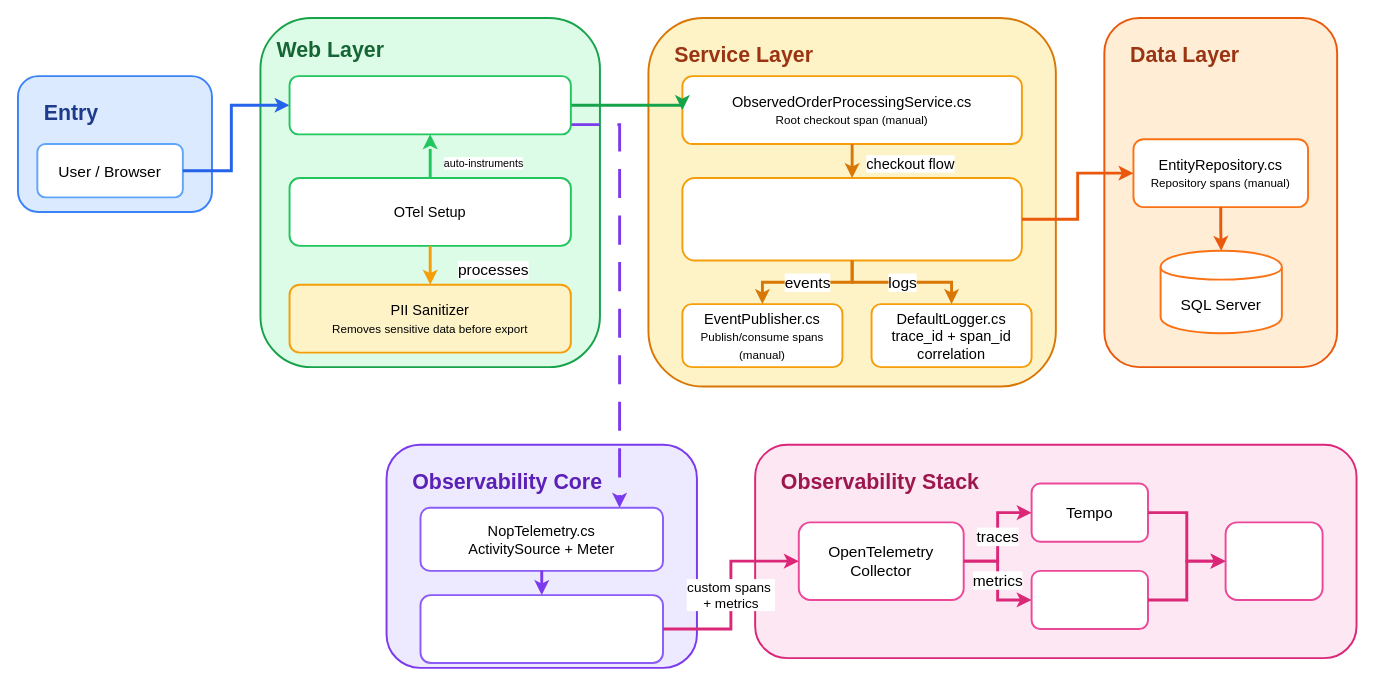
The diagram is 1374 pixels wide and 685 high, and some of its shapes have lost their labels. The shapes that lost their labels are listed below. From the top down, each one's centre as x and y in pixels, then its label:
At point 429,105: "CheckoutController.cs Auto request tagging".
At point 851,219: "OrderProcessingService.cs Checkout stages + custom metrics (manual)".
At point 1273,560: "Grafana".
At point 1089,599: "Prometheus".
At point 541,628: "CheckoutTelemetry.cs".
